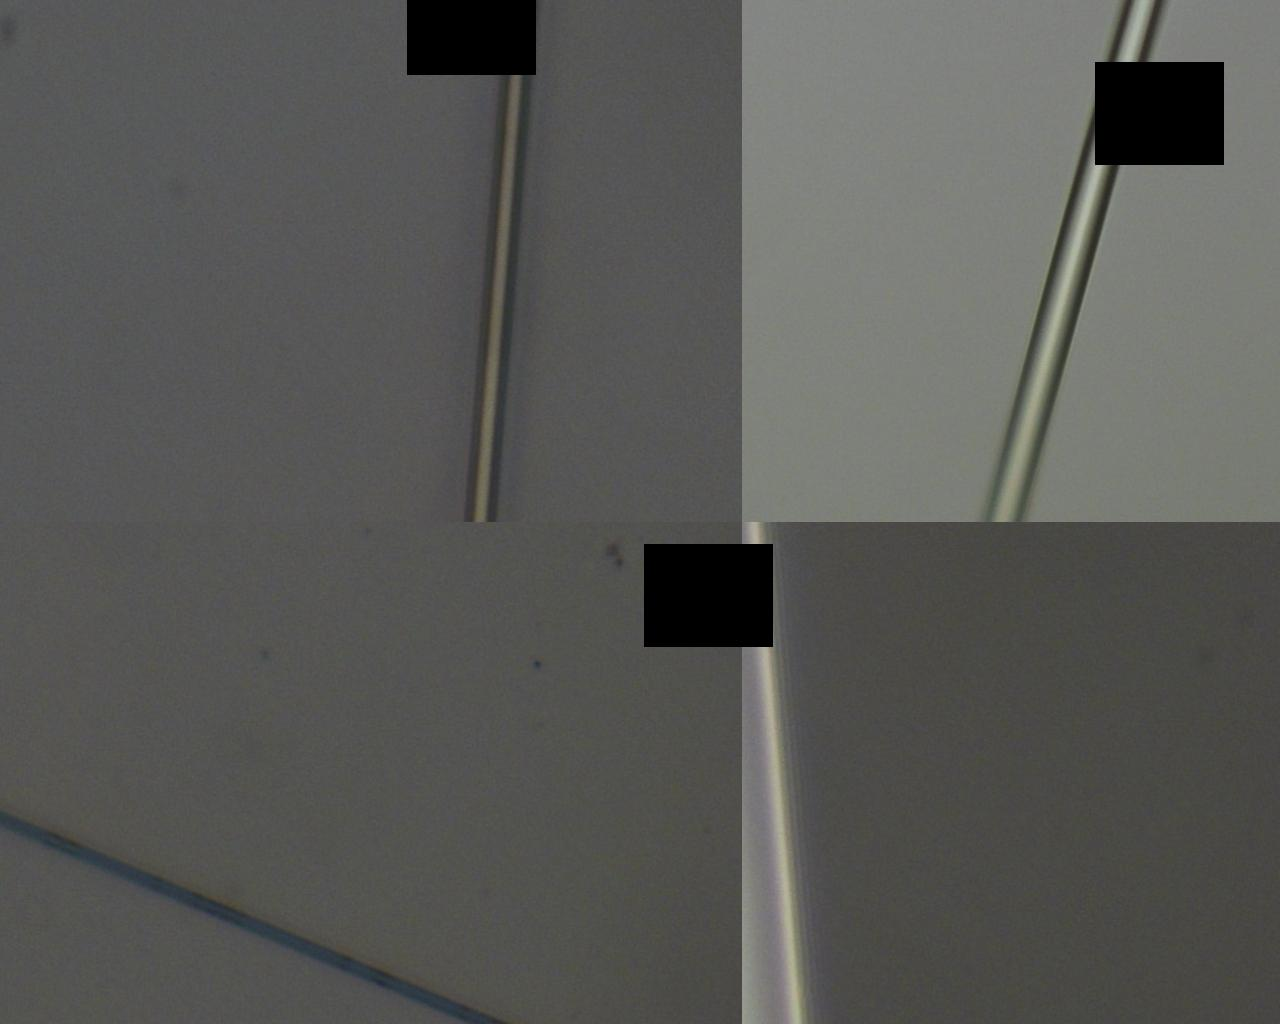fiber: (907, 419, 1060, 1024), (536, 419, 683, 1024), (869, 0, 988, 419), (359, 0, 404, 419)
